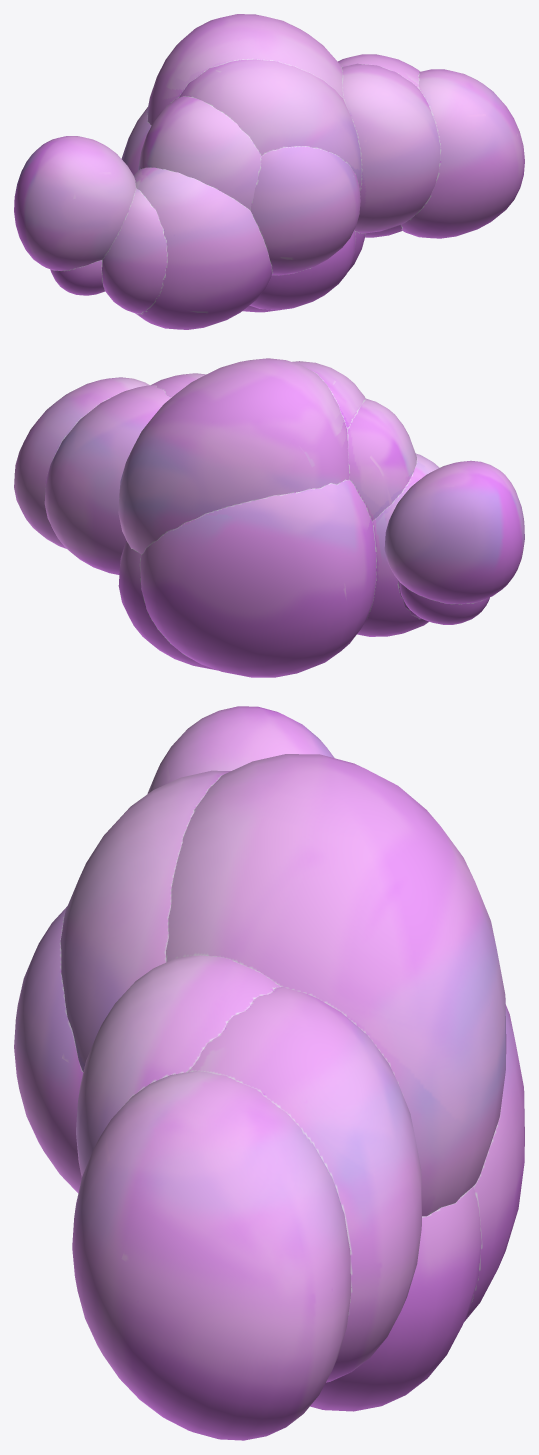
The model's file is Cloud_Pink.fbx.
The picture shows the model from 3 angles, top to bottom: view 1: azimuth 30°, elevation 25°; view 2: azimuth 150°, elevation 25°; view 3: azimuth 270°, elevation 25°; orthographic projection. The views are drawn at different scales.
Parts seen in each view (by area): view 1: Cube; view 2: Cube; view 3: Cube.
Boxes of the visible parts, <box> form: Cube: <box>14,14,524,329</box>; Cube: <box>14,358,524,677</box>; Cube: <box>14,706,524,1440</box>.
Bounding box in the file's own units: 1100 × 507 × 634.
Materials: 1 (1 with a texture image).
